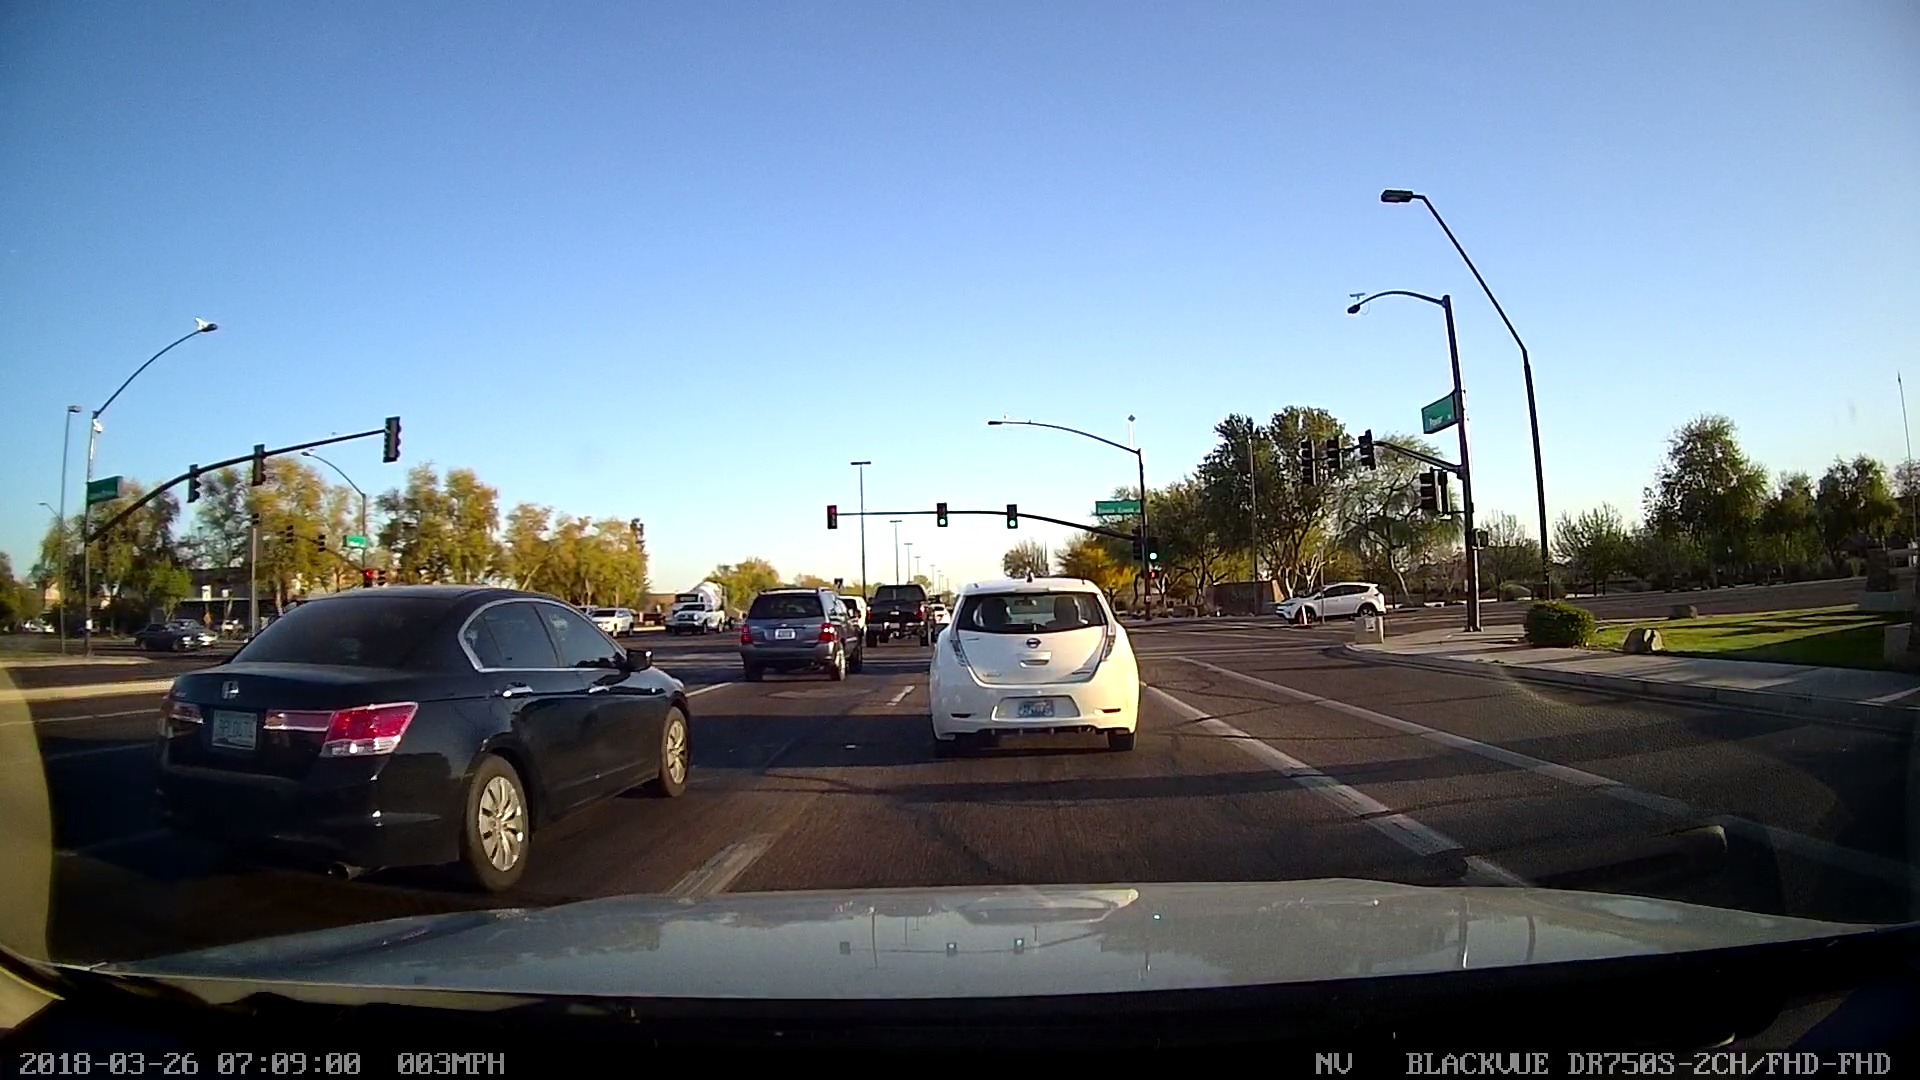vehicle: (137, 545, 692, 963), (905, 550, 1195, 787), (717, 575, 882, 717), (1265, 553, 1396, 645), (840, 560, 940, 661), (187, 686, 280, 760), (986, 686, 1077, 735), (746, 613, 803, 651)
